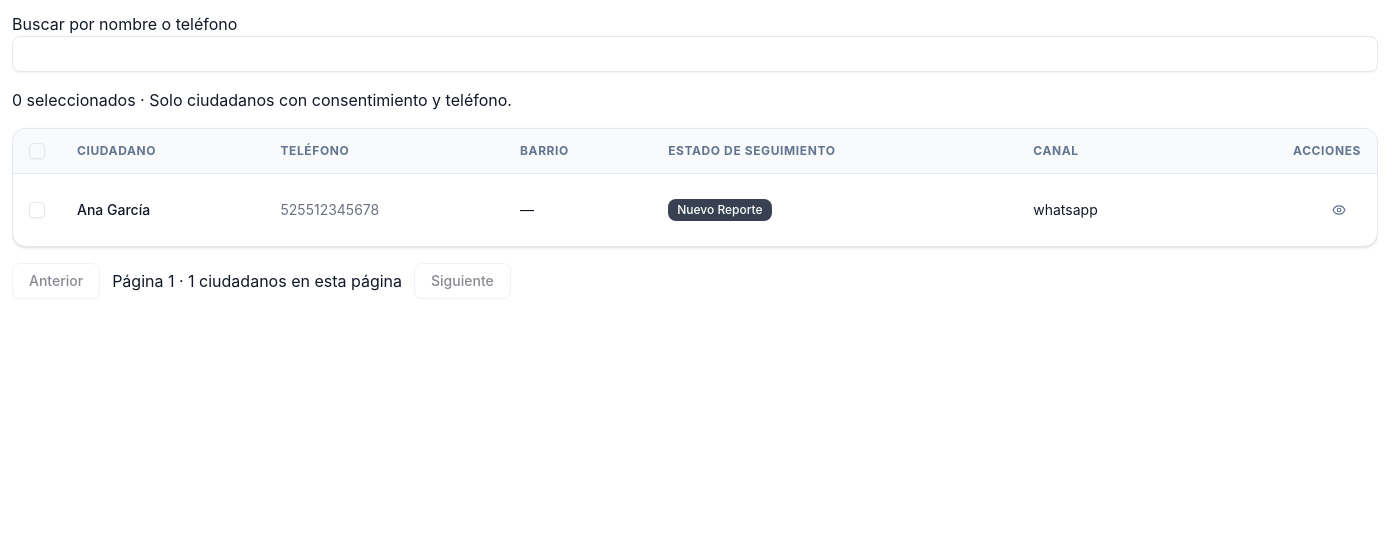
Test case: CampaignAudiencePicker › shows empty and failed searches and allows retrying without losing selection
Click the checkbox named "Seleccionar Ana García" at [37, 210], box x1=29 y1=202 x2=45 y2=218
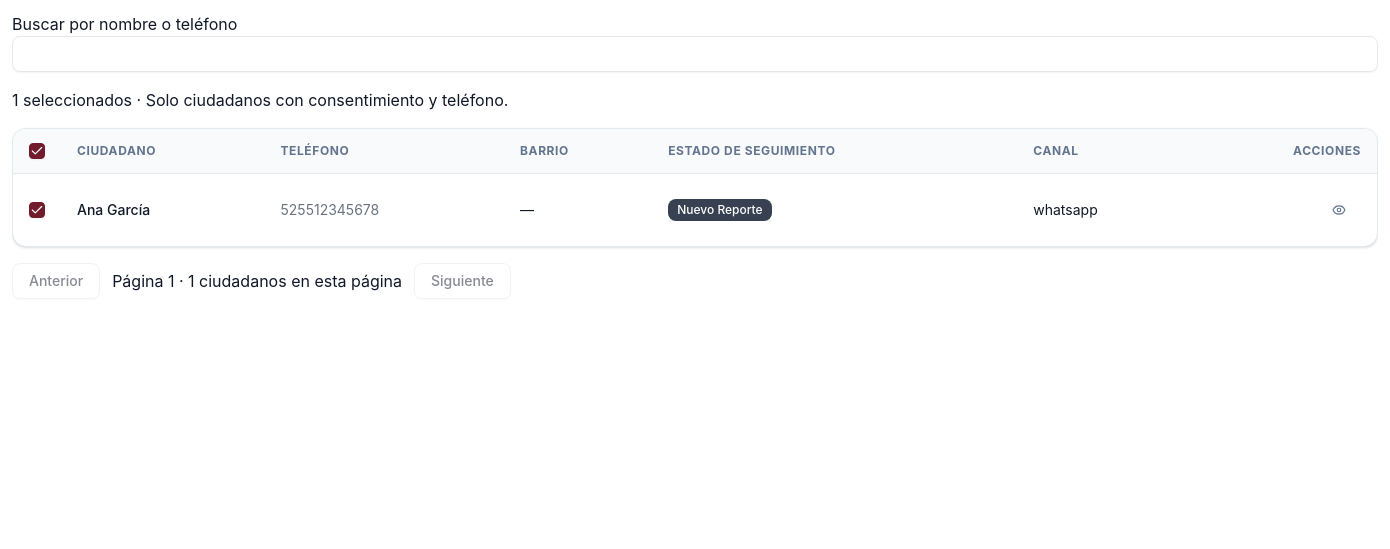
Type "nadie" into the search field labelled "Buscar por nombre o teléfono" at [695, 54], box x1=12 y1=36 x2=1378 y2=72
Wait 300 ms
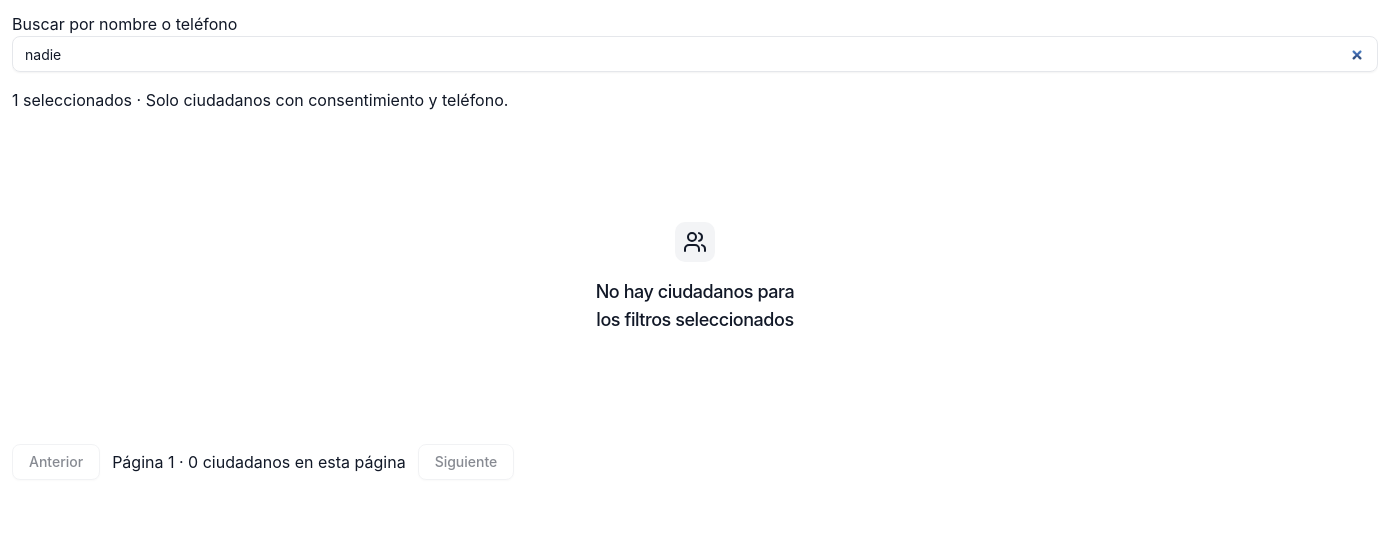
Expected: the button "Siguiente" is disabled, x1=418 y1=444 x2=514 y2=480
Now the text "No hay ciudadanos para los filtros seleccionados" is shown, box x1=596 y1=281 x2=794 y2=330
Replace the text in the search field labelled "Buscar por nombre o teléfono" with "Ana" at [695, 54], box x1=12 y1=36 x2=1378 y2=72
Wait 300 ms
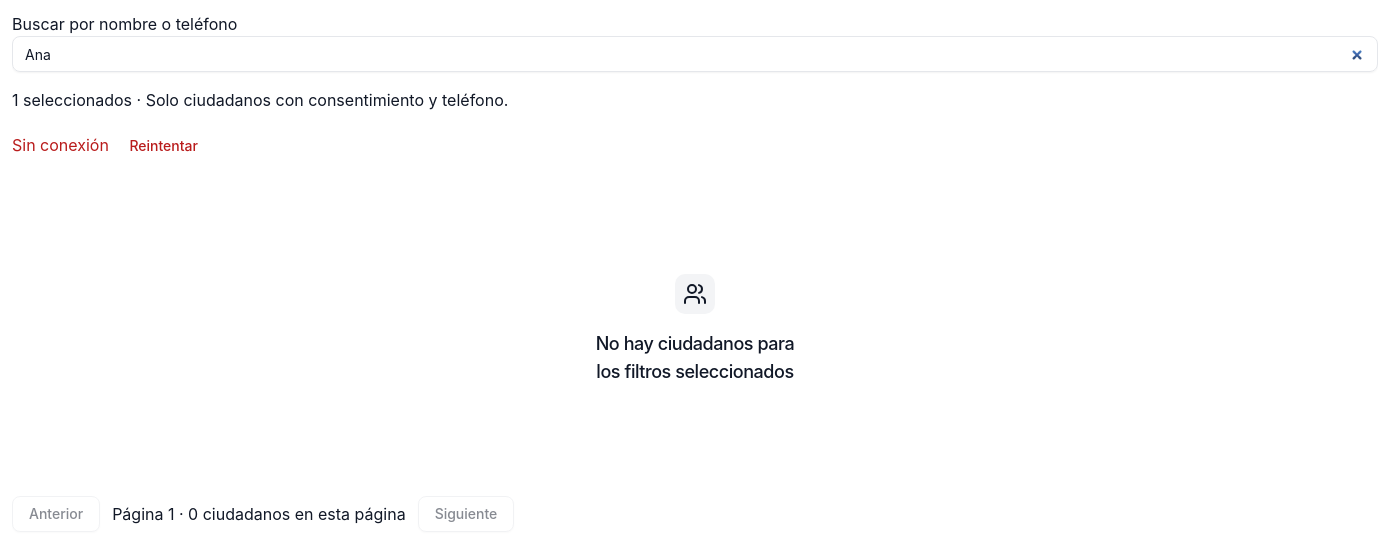
Now the message shows "Sin conexión", box x1=12 y1=135 x2=109 y2=155
Click the button "Reintentar" at [164, 146], box x1=113 y1=128 x2=214 y2=164
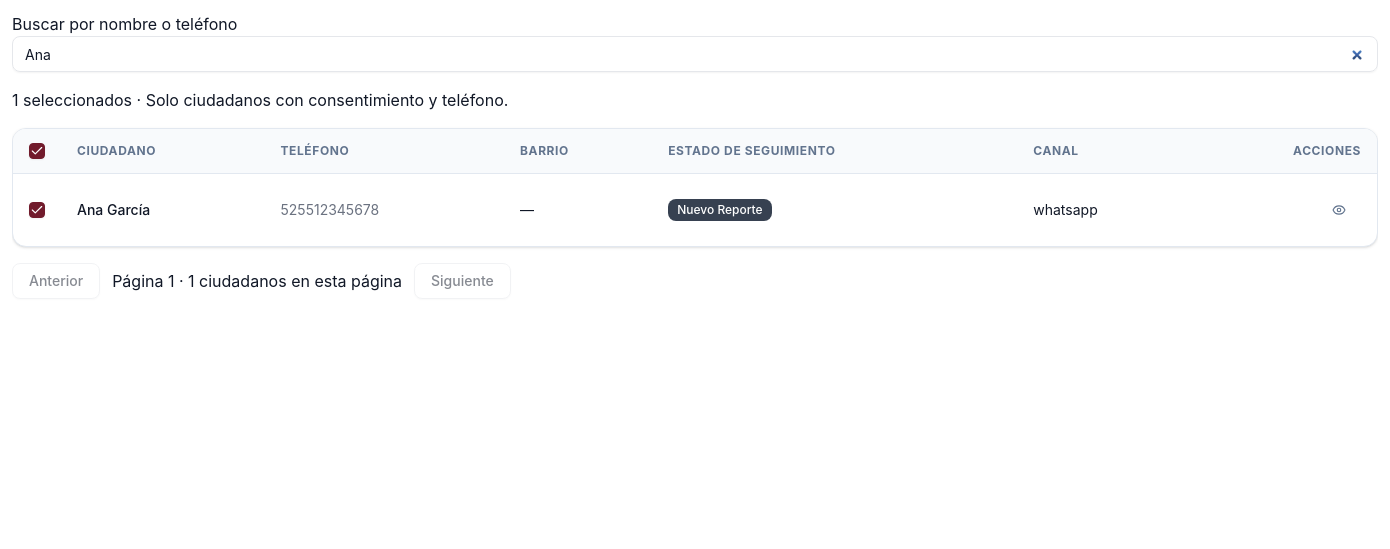
Now the checkbox named "Seleccionar Ana García" is checked, box x1=29 y1=202 x2=45 y2=218
